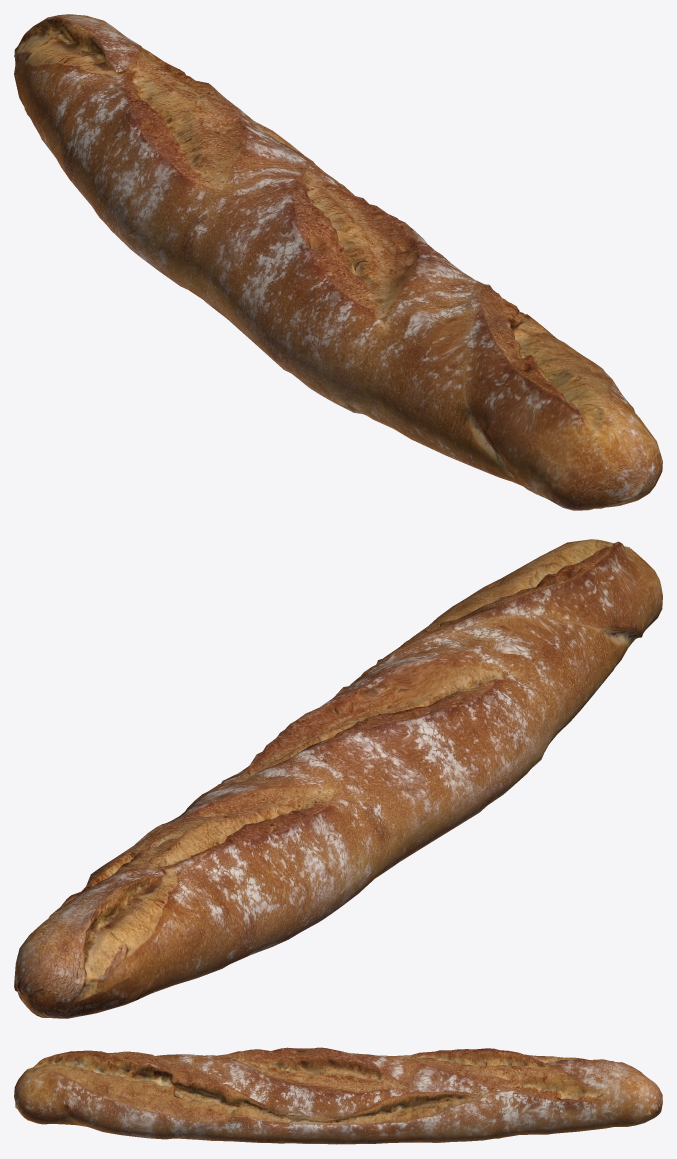
The model's file is bread.glb.
The picture shows the model from 3 angles, top to bottom: view 1: azimuth 30°, elevation 25°; view 2: azimuth 150°, elevation 25°; view 3: azimuth 270°, elevation 25°; orthographic projection. The views are drawn at different scales.
Parts seen in each view (by area): view 1: 3DModel_1; view 2: 3DModel_1; view 3: 3DModel_1.
Part boxes in pixels (x1,y1,x2,y2): 3DModel_1: (14, 14, 662, 510); 3DModel_1: (14, 539, 662, 1018); 3DModel_1: (14, 1047, 662, 1144).
Size of the model in its own units: 0.0641 by 0.0377 by 0.3227.
Materials: 1 (1 with a texture image).
